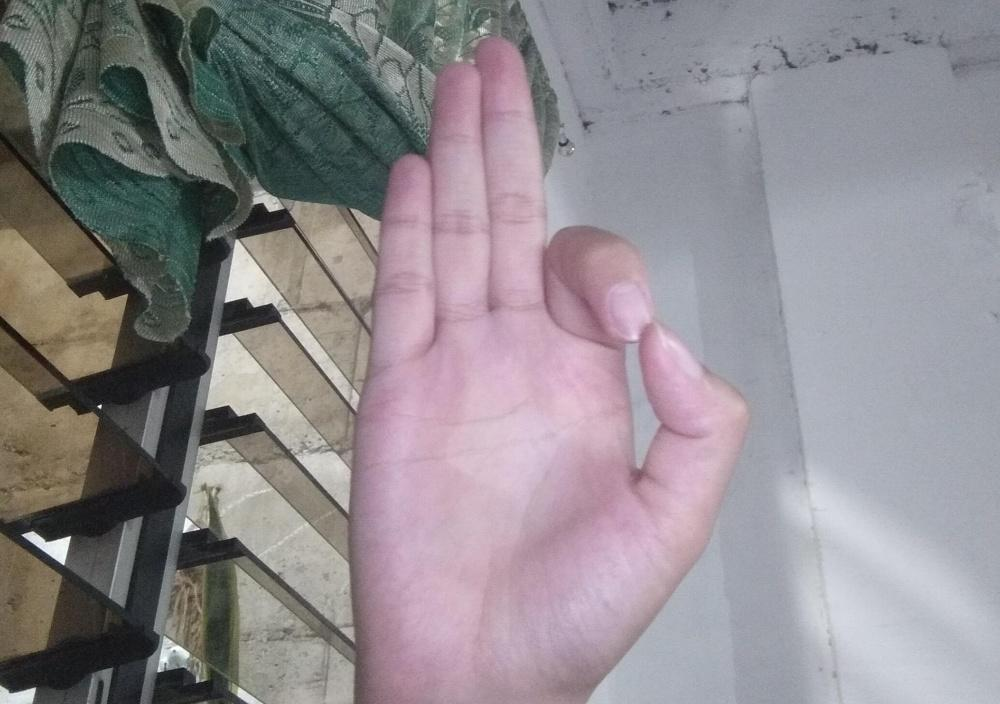f: (345, 33, 754, 693)
